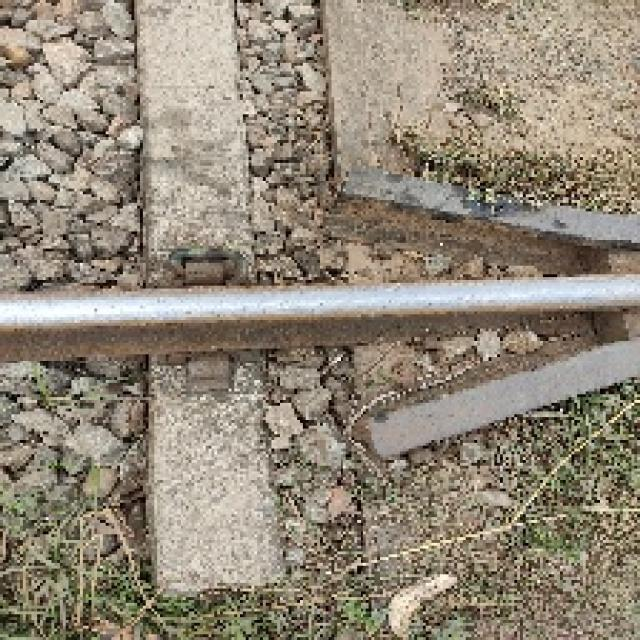Good Fasteners: (169, 249, 243, 283)
Missing Fastener: (161, 356, 239, 408)
